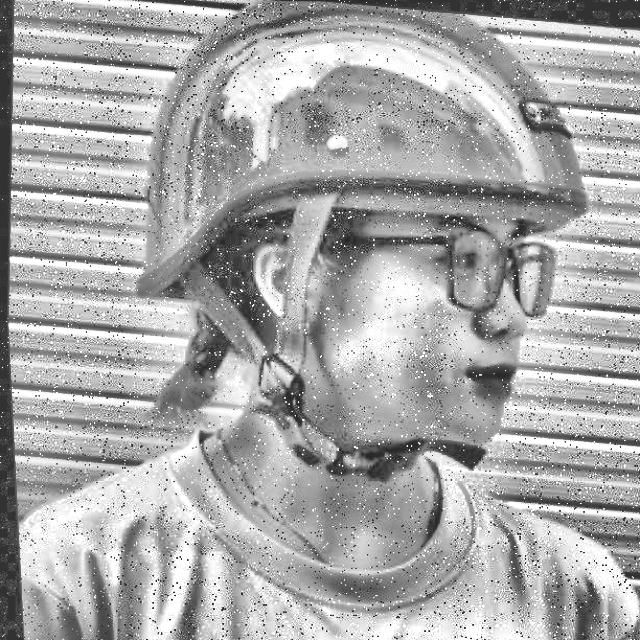Helmet: (103, 0, 619, 504)
